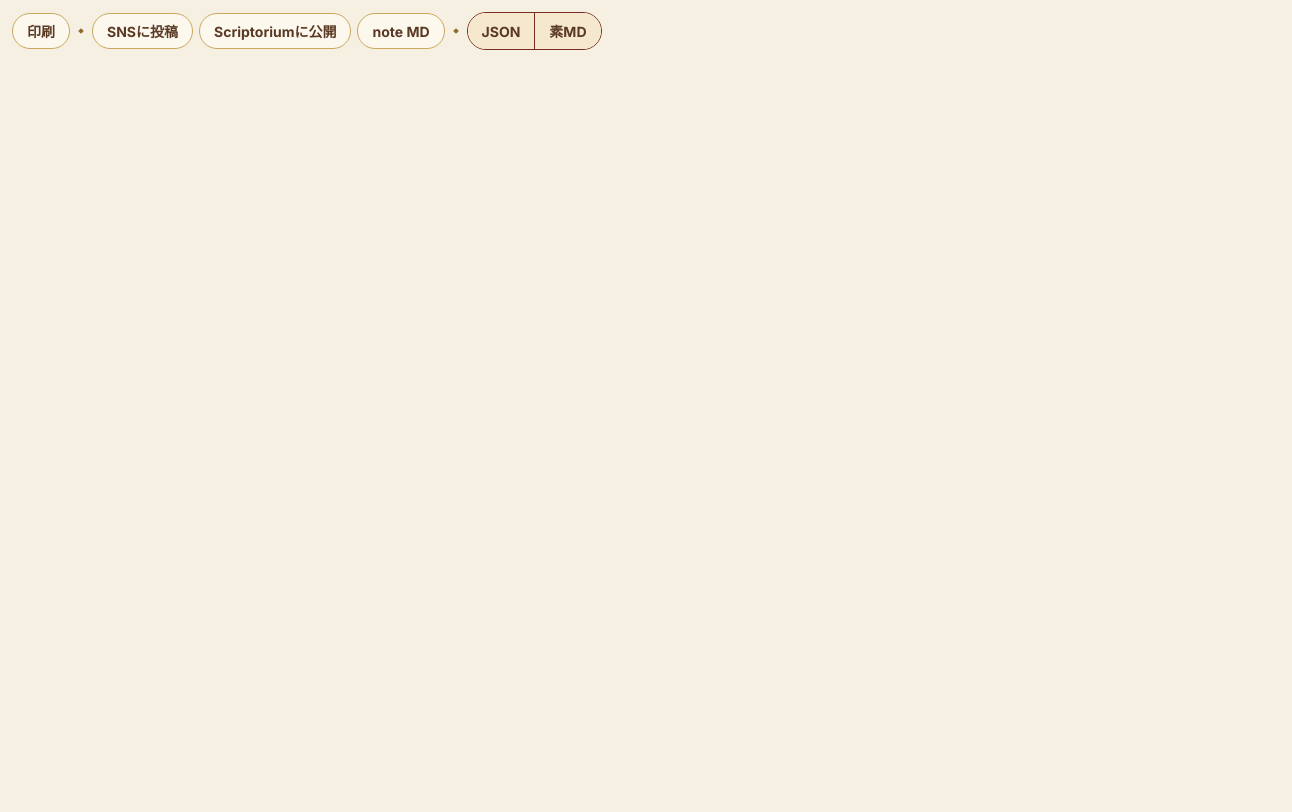
ExportActionBar — PC幅（従来のピル群） › note MDコピー成功時はボタンラベルが「コピーしました ✓」に切り替わる（FB-E）
The width and height of the screenshot is (1292, 812).
Click the button "note MD".
click(401, 31)  # box [357,13,444,49]
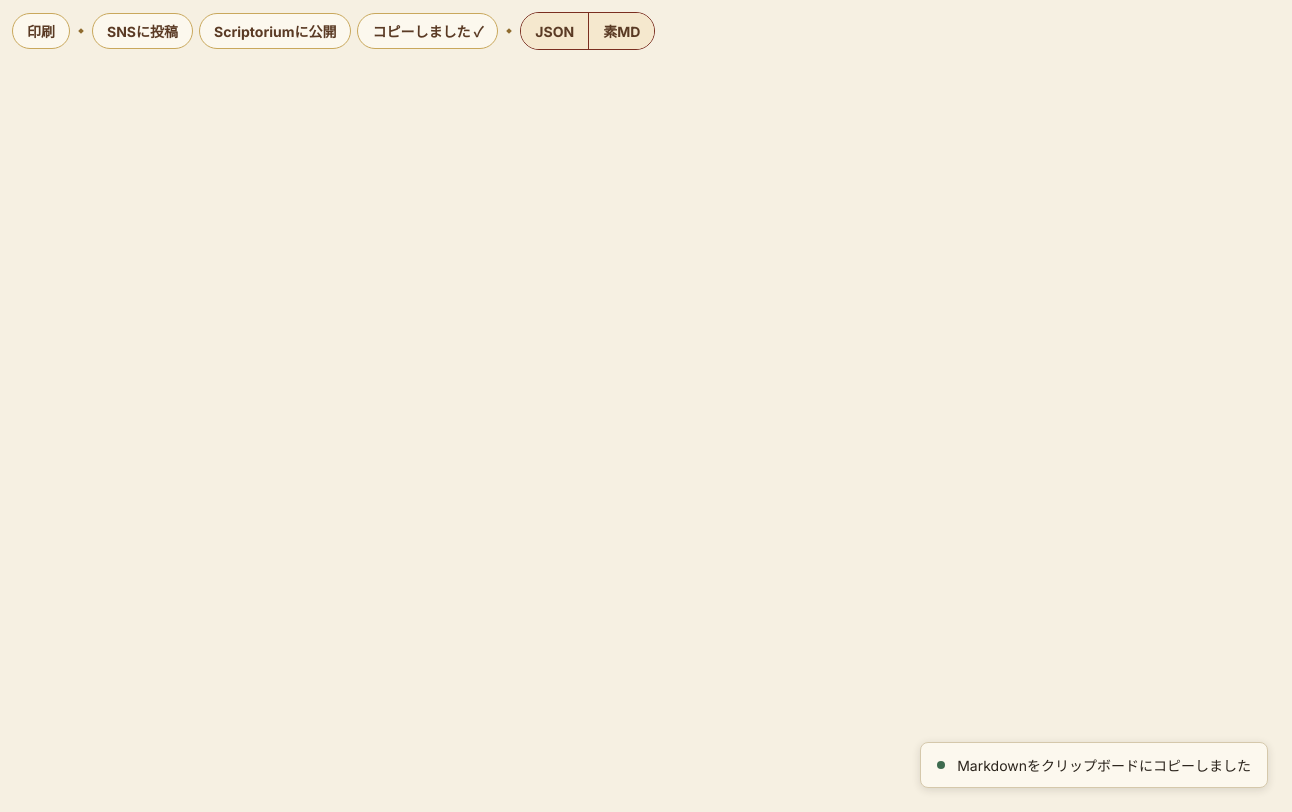
Now the button "コピーしました ✓" is shown, box [357,13,498,49]
